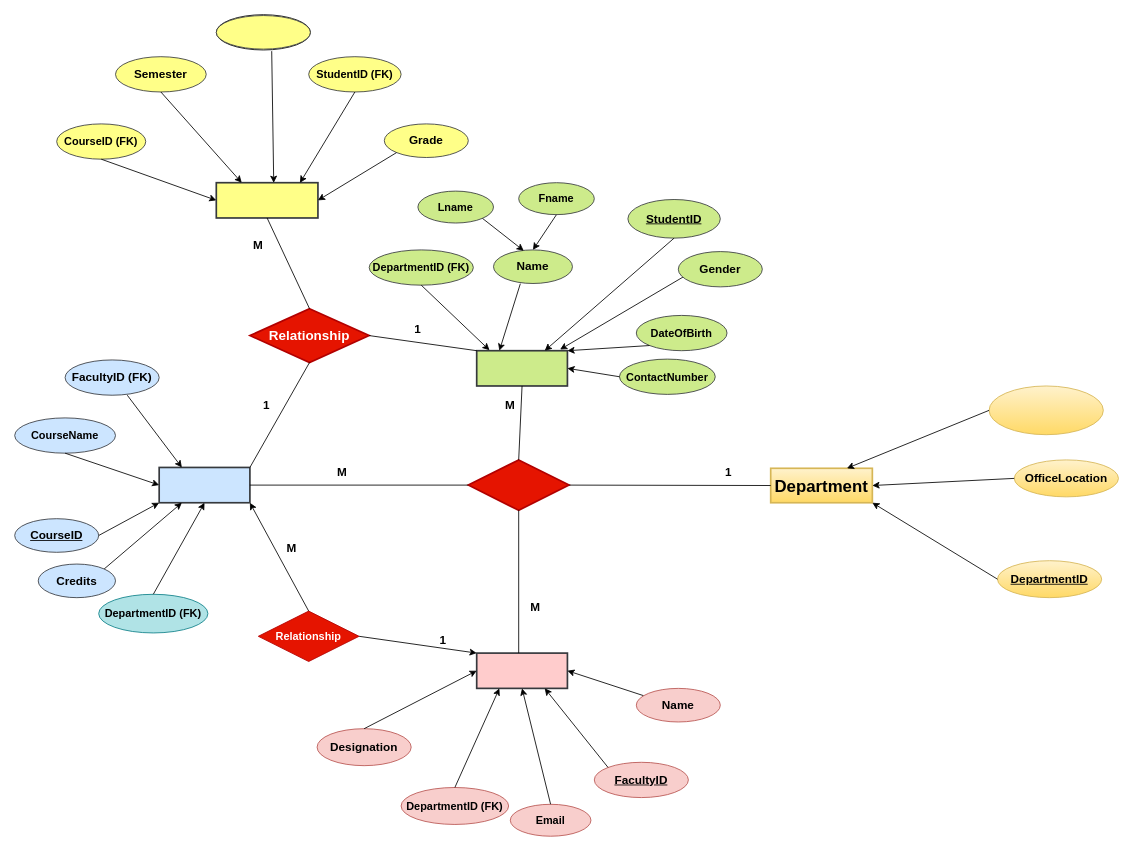
Some shapes in this 1133 by 851 pixel diagram are drawn without their labels. Each missing label, with the box of its shape:
Core: (467, 459, 570, 511)
Course: (158, 466, 250, 503)
DepartmentName: (988, 385, 1103, 435)
Enrollment: (215, 181, 318, 218)
EnrollmentID: (215, 15, 310, 49)
Faculty: (475, 652, 568, 689)
Student: (475, 349, 568, 386)
